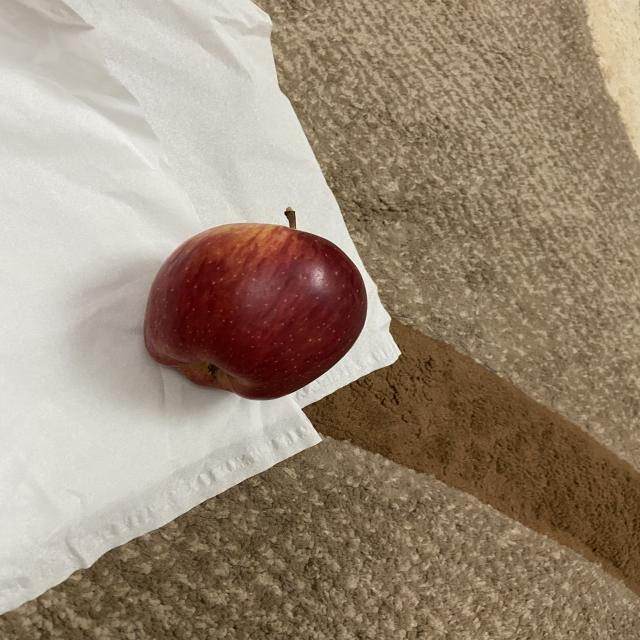apple: (132, 202, 374, 404)
